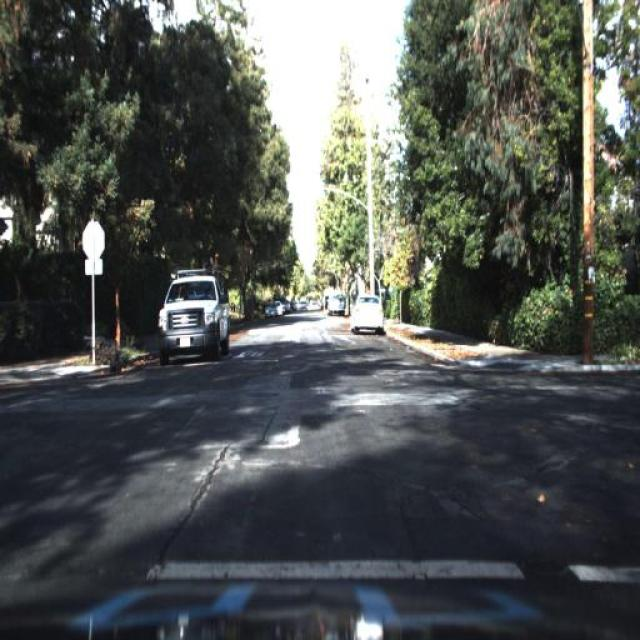car: (156, 257, 232, 368), (346, 290, 390, 332), (350, 289, 384, 335), (326, 287, 348, 319), (260, 302, 278, 326), (262, 299, 279, 321)
